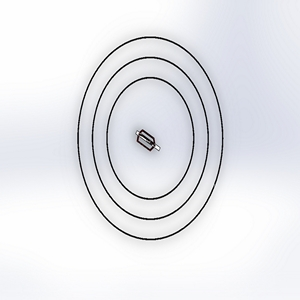circle: (69, 32, 229, 244)
submarine: (129, 123, 165, 159)
